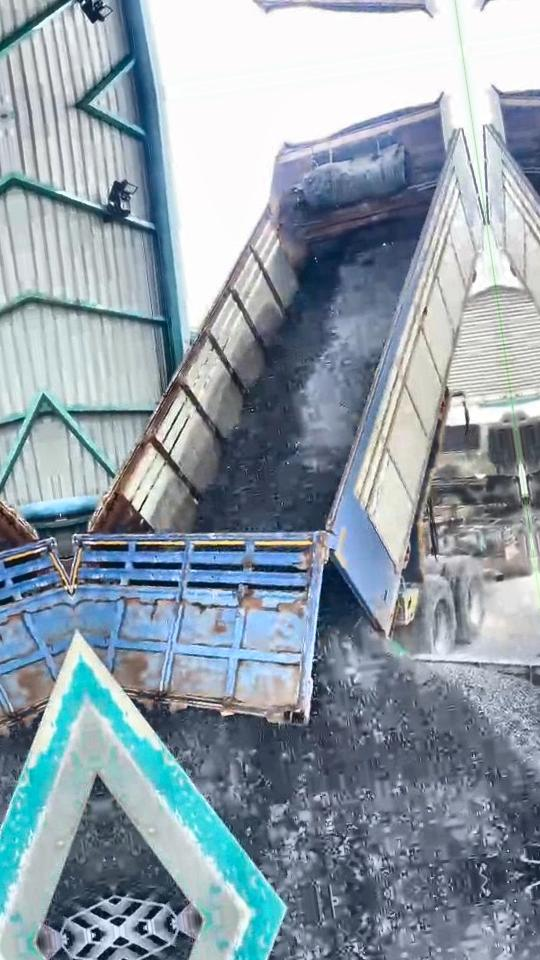gravel: (149, 570, 540, 907), (194, 223, 418, 531), (100, 787, 181, 902)
